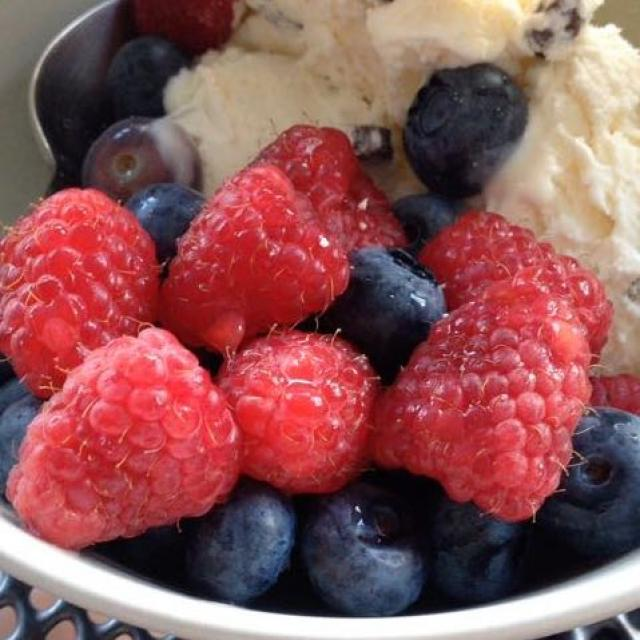blueberries: (94, 38, 633, 611)
raspberries: (10, 123, 628, 576)
